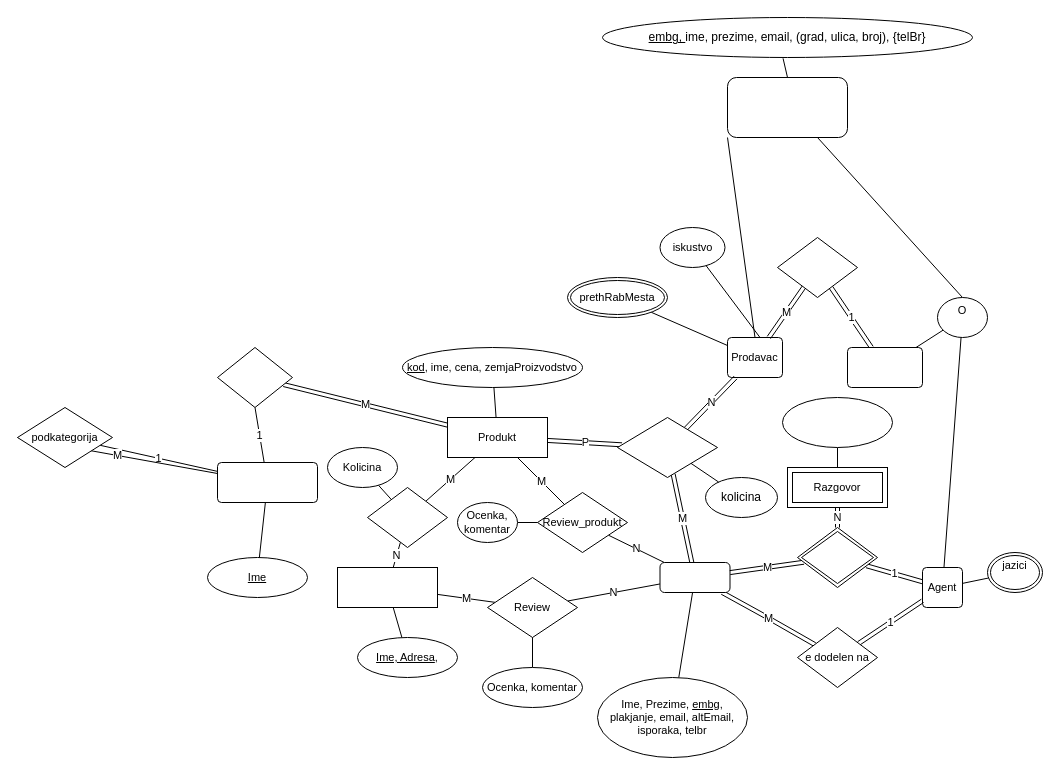
The diagram is 1060 pixels wide and 775 high, and some of its shapes have lost their labels. The centre of each missing label's shape, as x and y in pixels:
(id), datum, vremetraenje, cel: the point at 837,422
agentMenager: the point at 884,367
Kategorija: the point at 267,482
kategoriziran: the point at 254,377
Kupuvac: the point at 694,577
menadzira: the point at 817,267
naracka: the point at 667,447
Prodavnica: the point at 387,587
Vrab: the point at 787,107
Zaliha: the point at 407,517
